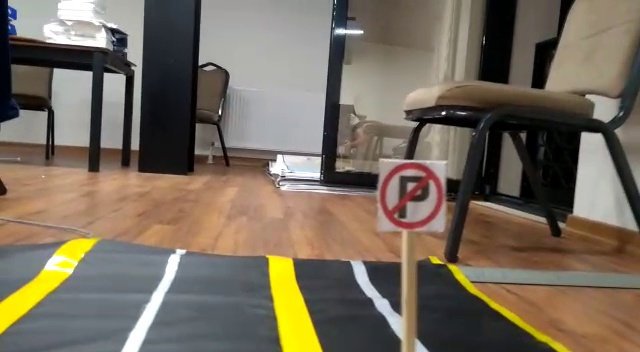park_yapilmaz: (380, 159, 442, 231)
